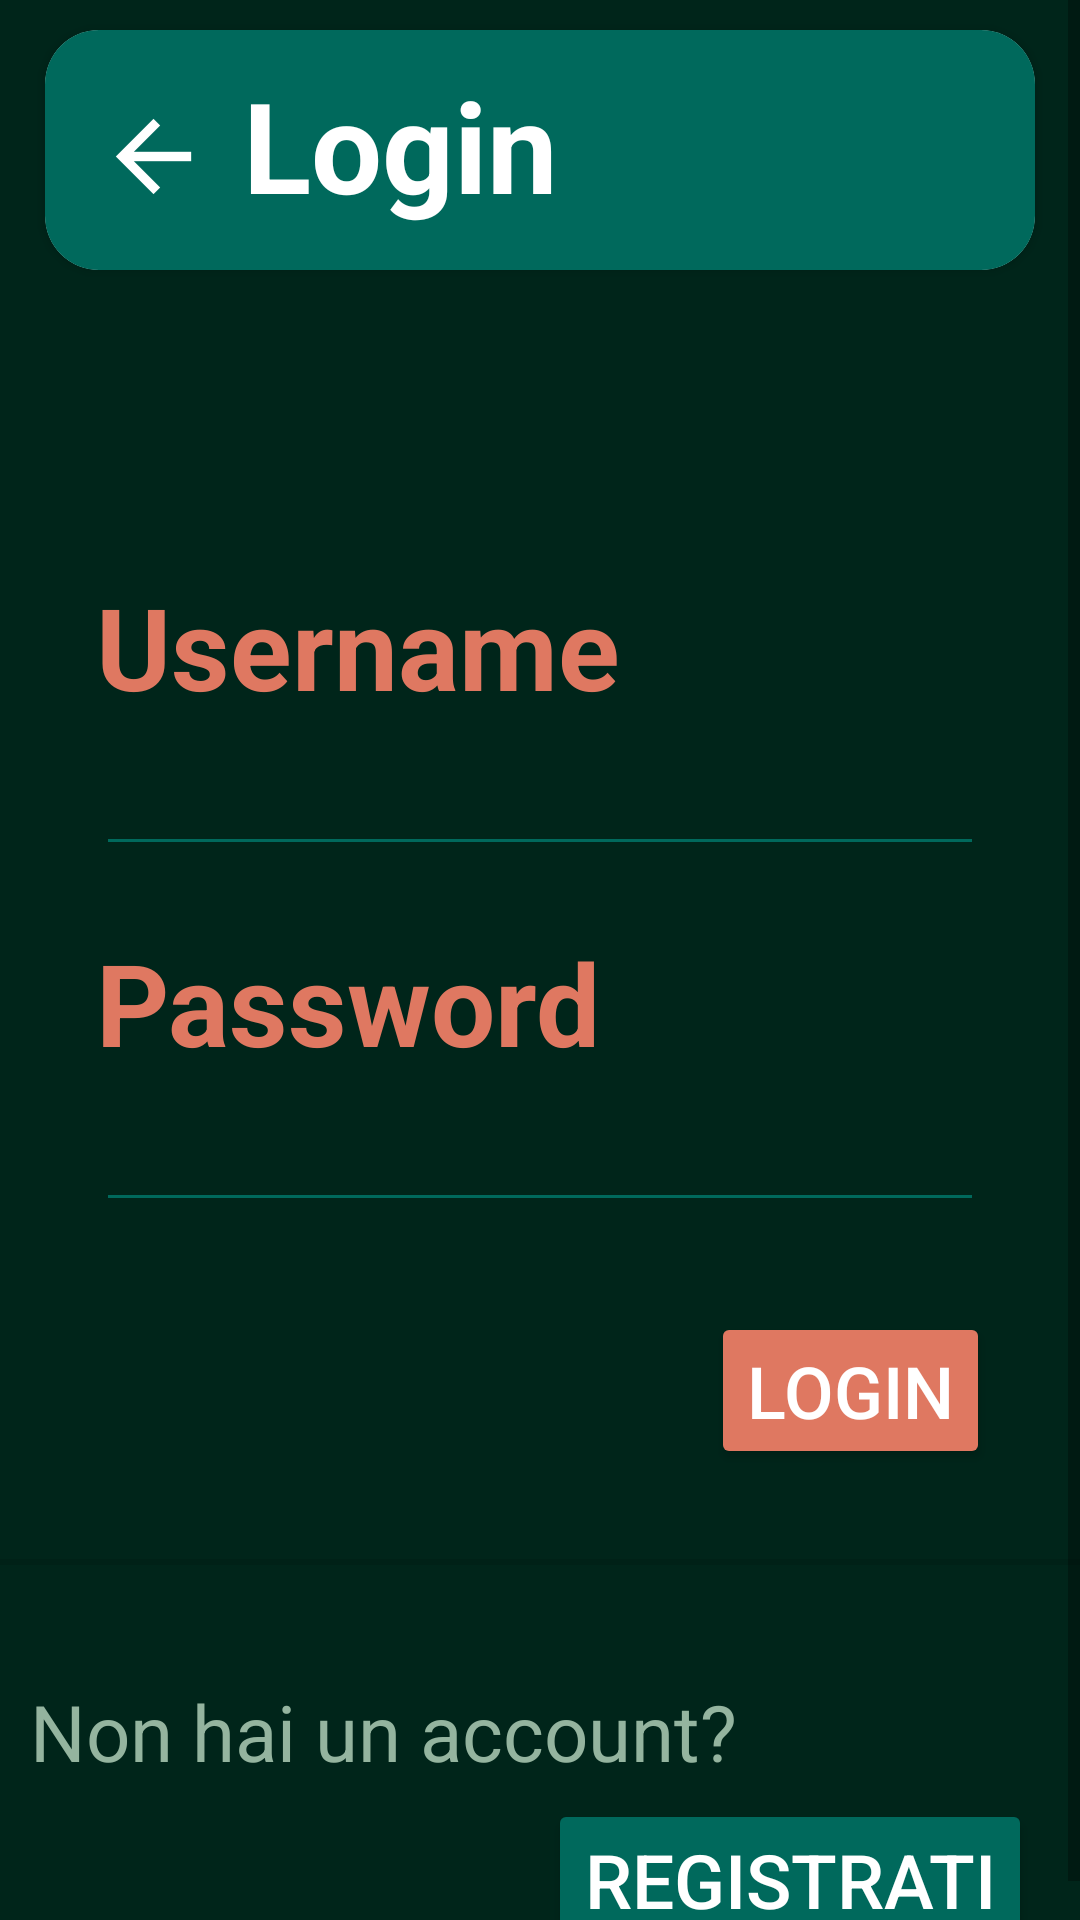

Icon click points for this 1080x1920 phone screenshot, format point (x, y):
backarr: point (153, 156)
